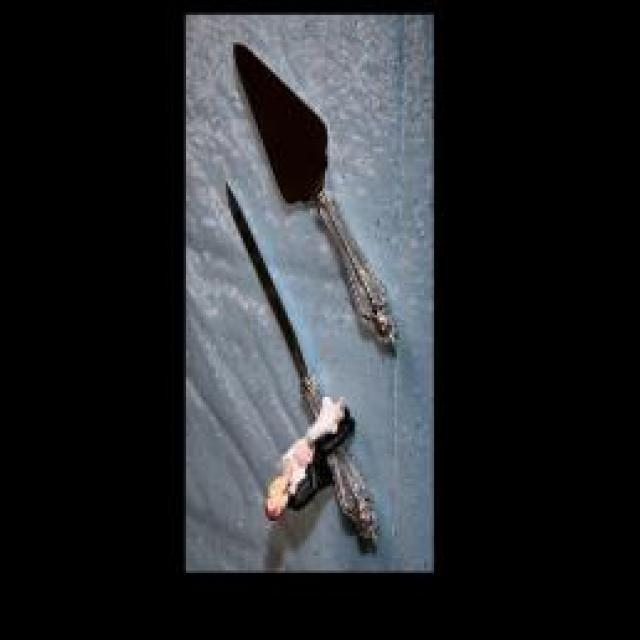knife: (223, 178, 375, 550), (229, 35, 397, 352)
